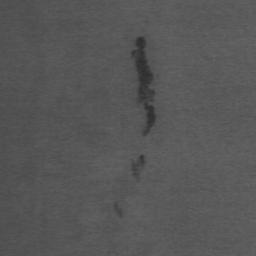Iron scale compression: (131, 37, 155, 137), (130, 156, 145, 178), (113, 202, 123, 219)
